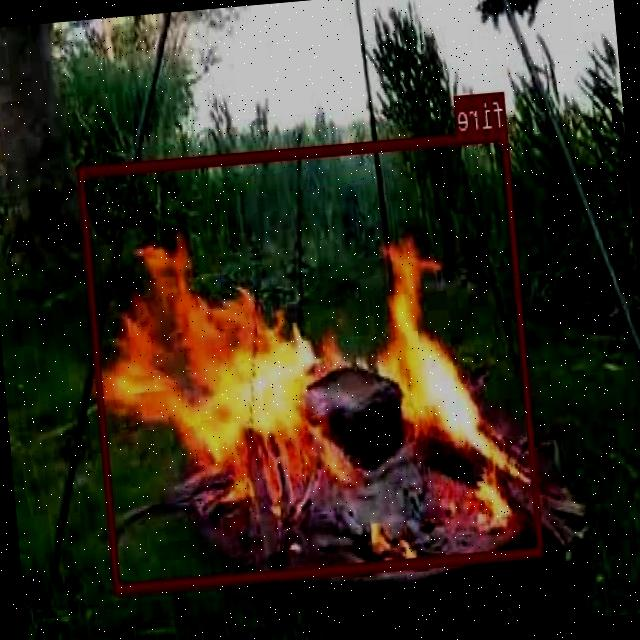fire: (78, 127, 546, 592)
